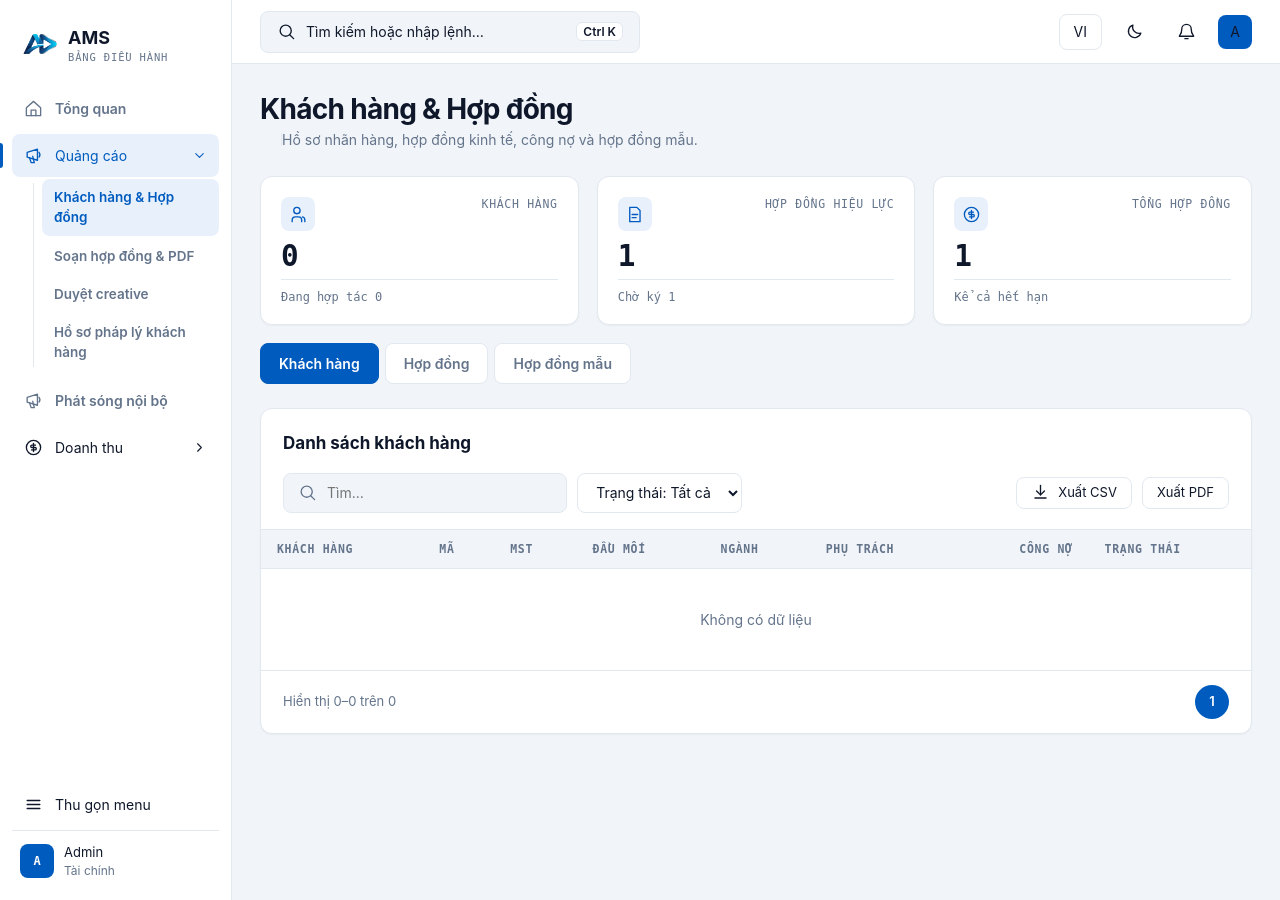
Test: u1: dong gia hop dong › loi may chu hien thong bao; chi finance:view thi chi doc (khong co nut ghi)
Click the button "Hợp đồng": (437, 364) left=385, top=343, right=488, bottom=384
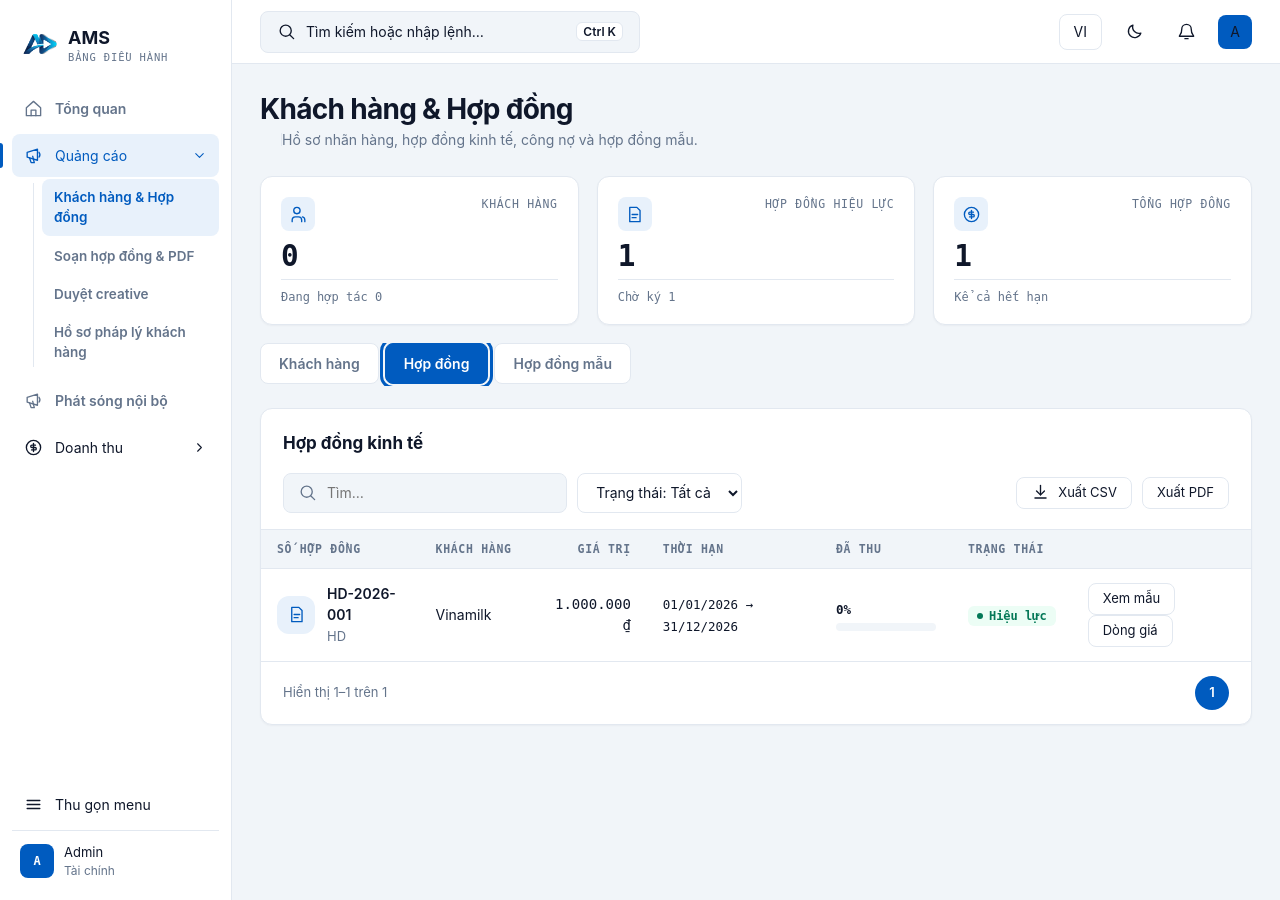
Click the button "Dòng giá": (1130, 630) left=1088, top=614, right=1173, bottom=646
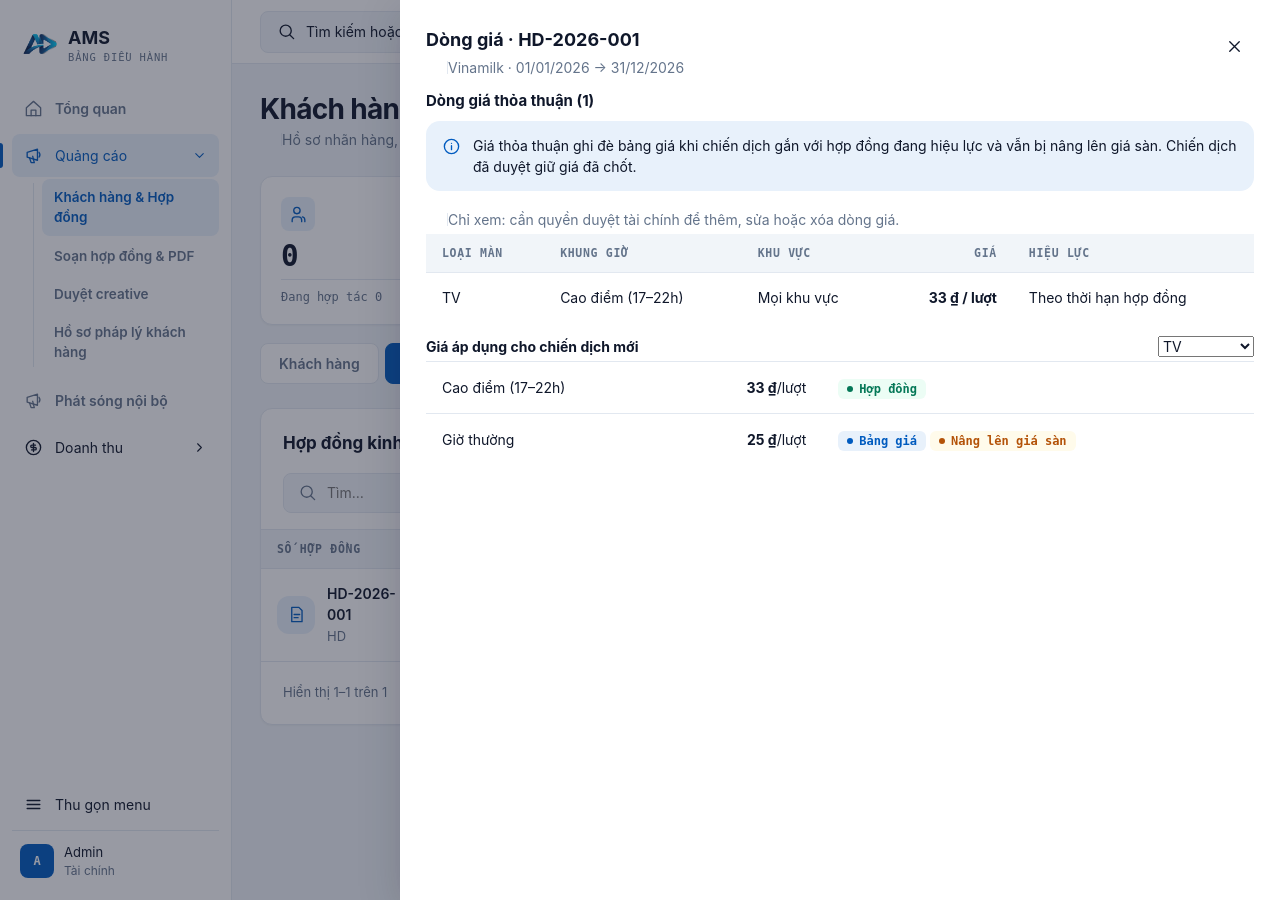
Expected: the text "33 ₫ / lượt" is shown, left=929, top=288, right=997, bottom=306
Expected: the element named "Dòng giá hợp đồng" shows "cần quyền duyệt tài chính", left=448, top=210, right=899, bottom=228
